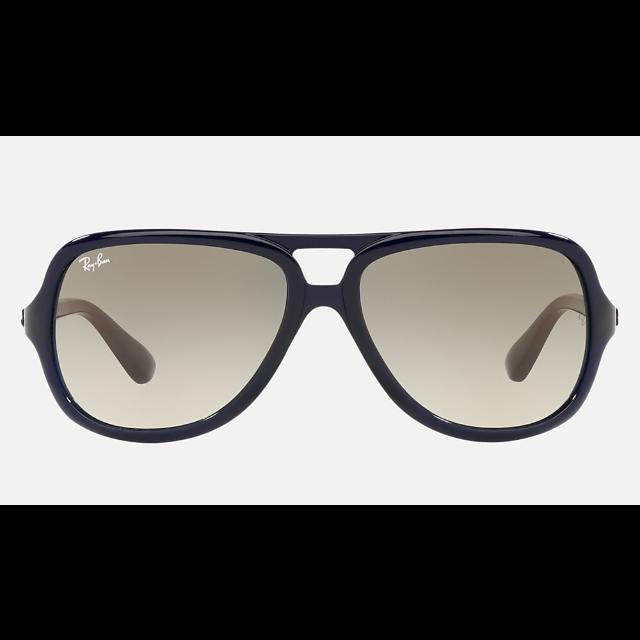Sunglasses: (19, 226, 622, 442)
